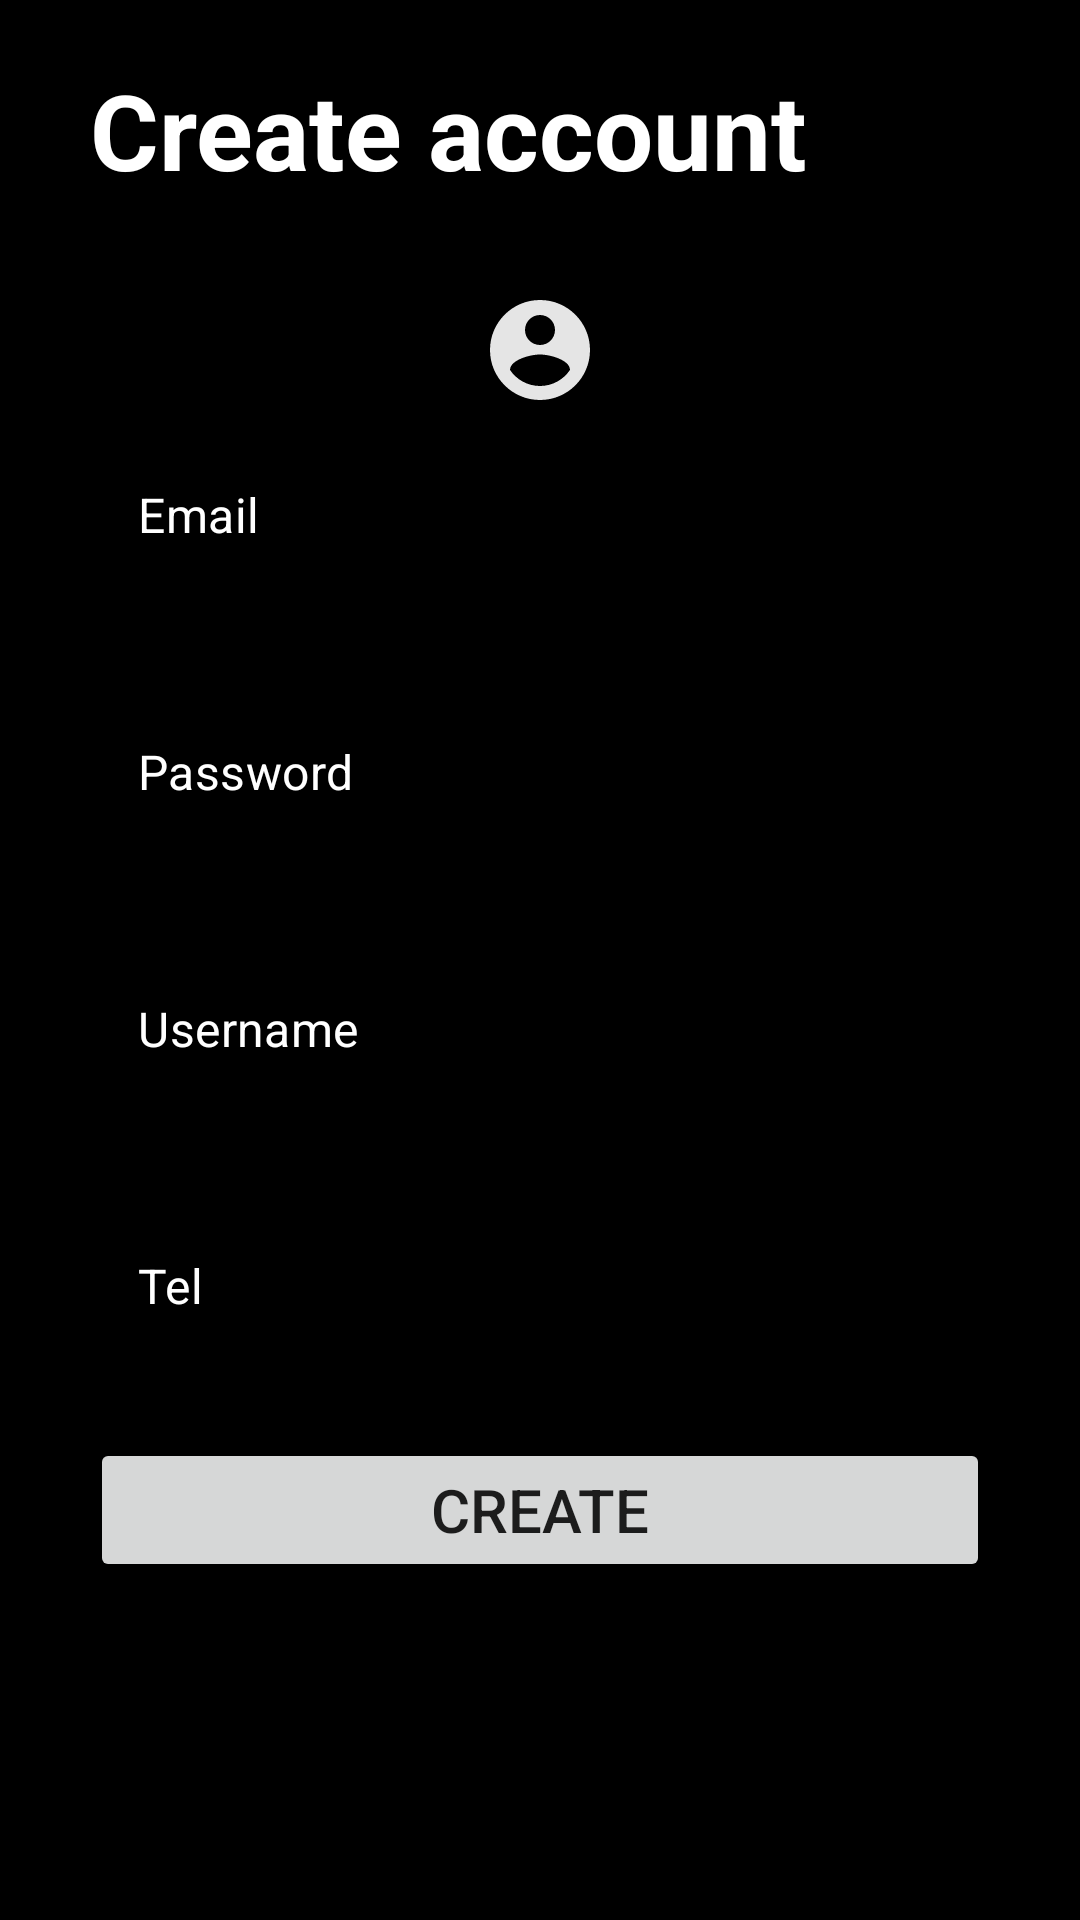

Icon click points for this 1080 × 1920 phone screenshot, format point (x, y):
account circle: point (540, 350)
